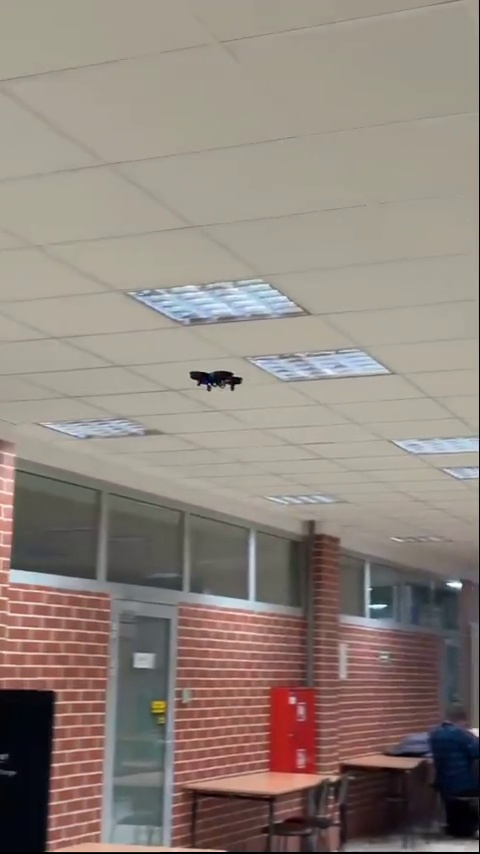drone: (185, 364, 247, 394)
no vest: (425, 708, 480, 803)
